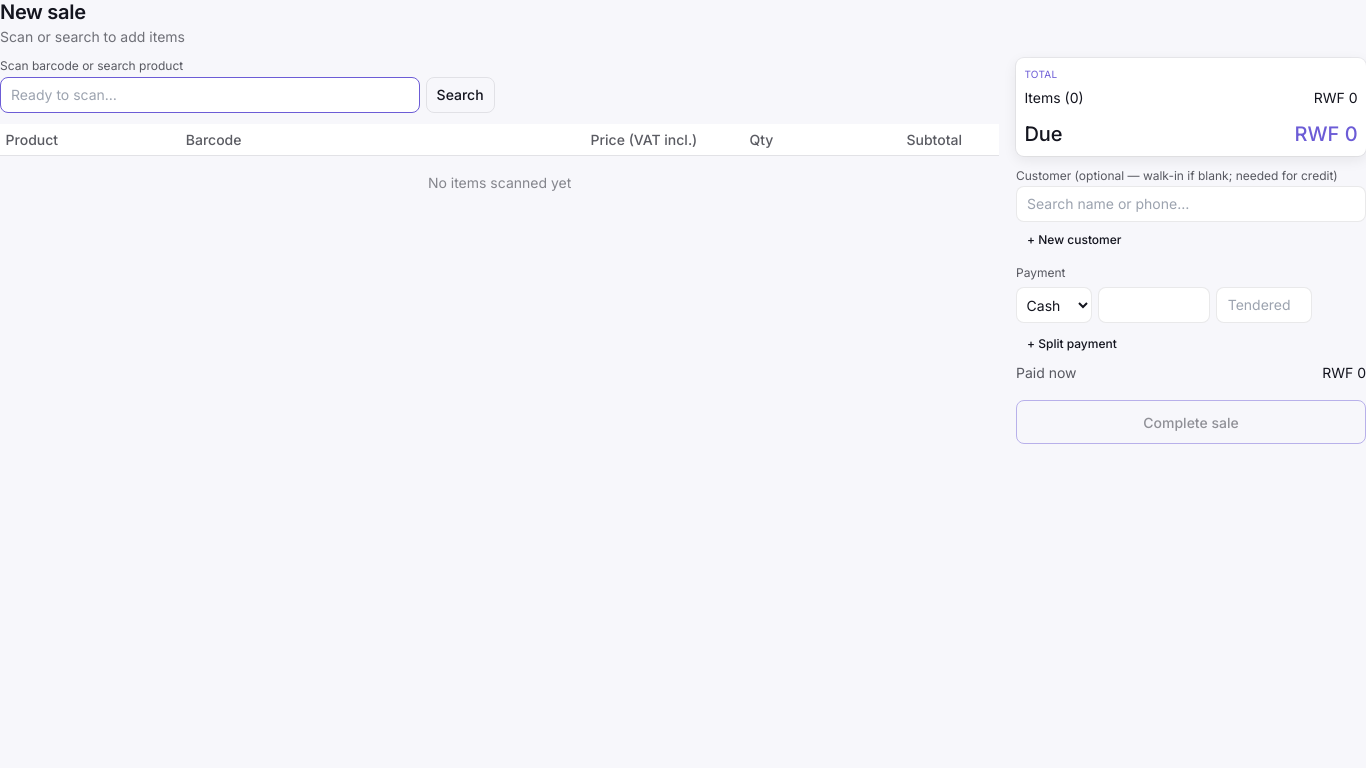
Scenario: PosCheckout › opens the PIN dialog when the sale comes back approval_required
The image size is (1366, 768).
Type "PES-AUD-00147" into the field labelled "Scan barcode or search product". click: x=210, y=95
box: [0,77,420,113]
Then press Enter
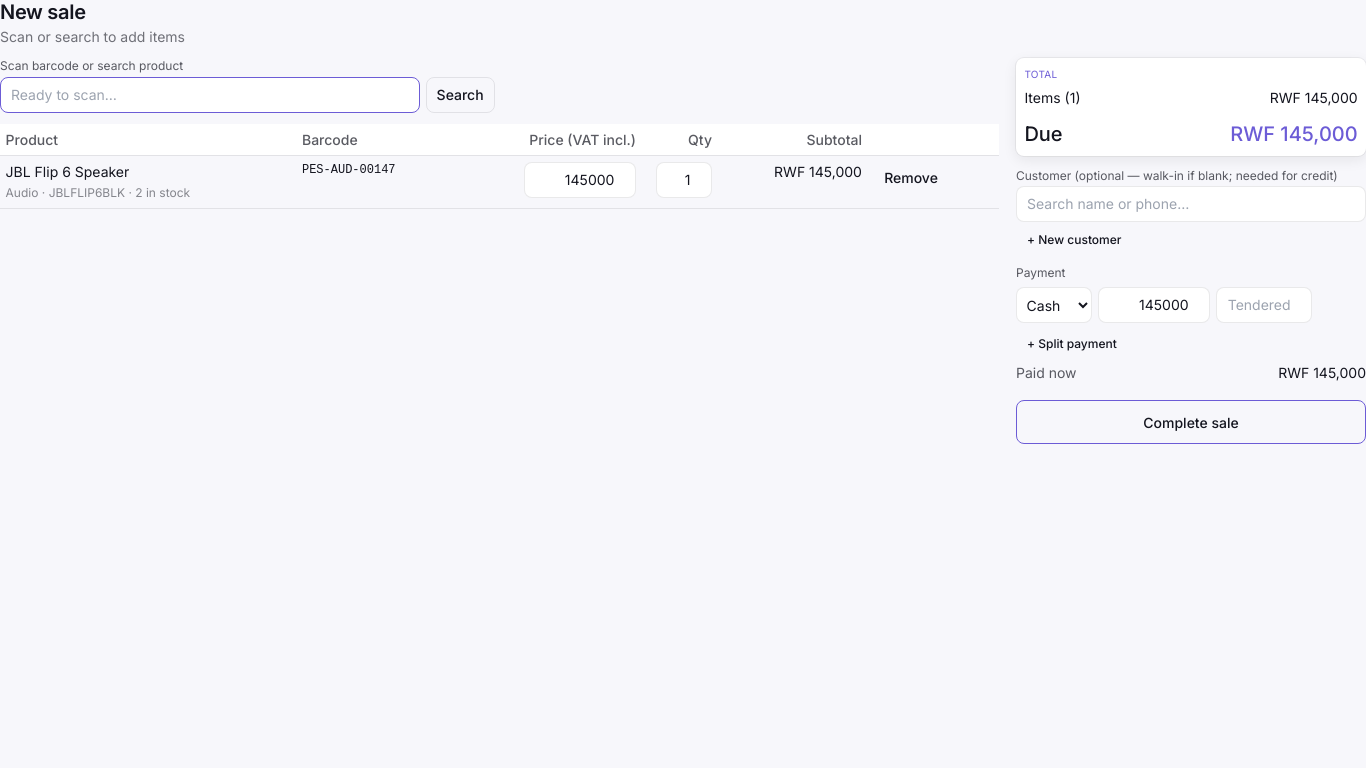
Click the button "Complete sale". click: x=1191, y=422
box: [1016,400,1365,444]
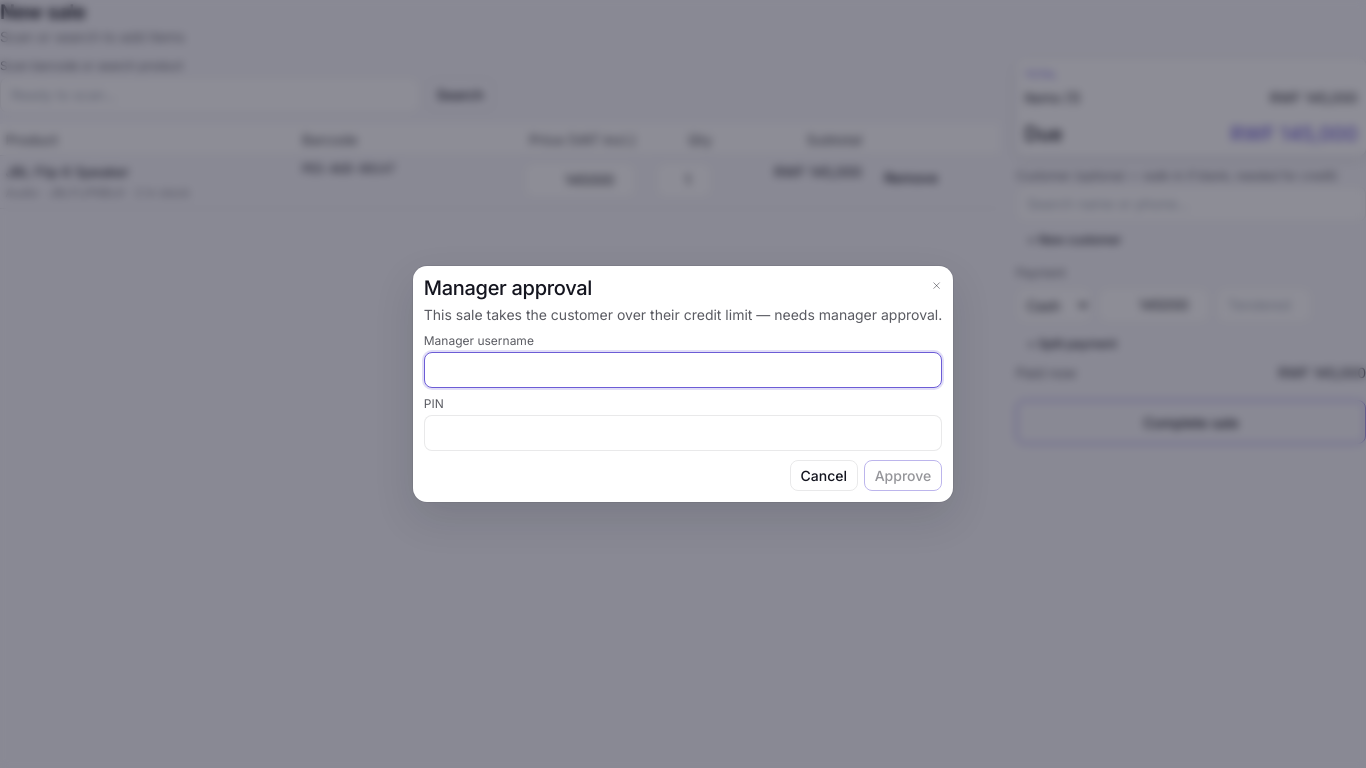
Result: the text "over their credit limit" is shown at [424,306,942,323]
Result: the heading "Manager approval" is shown at [424,276,592,300]
